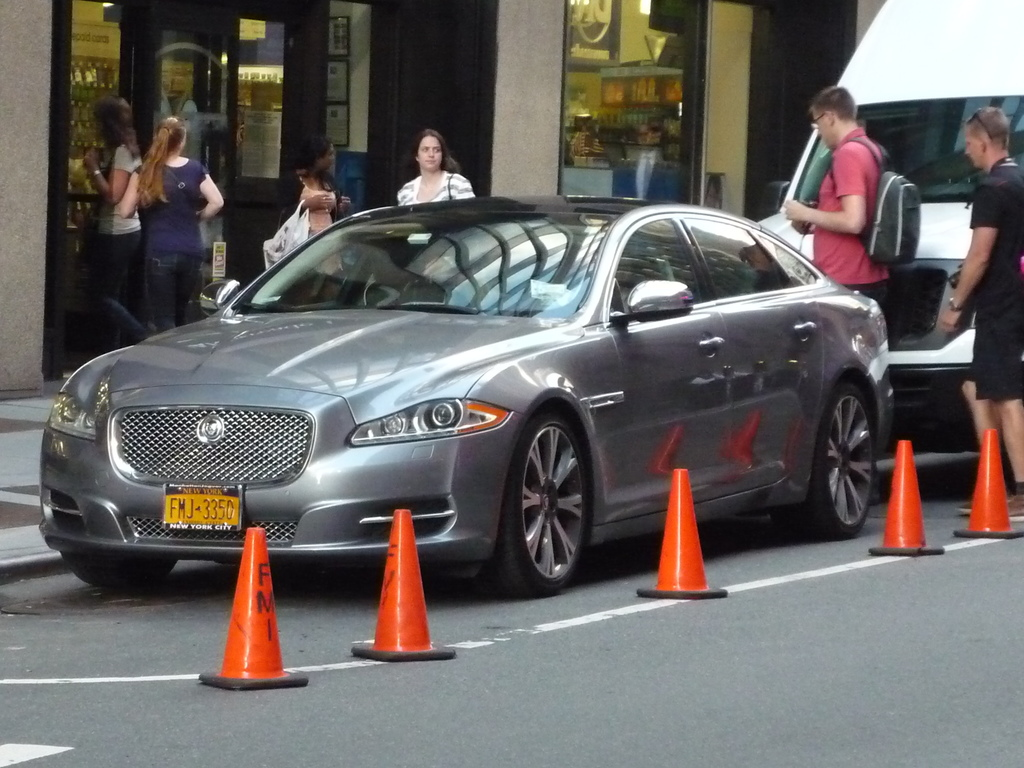person: (394, 127, 476, 206)
